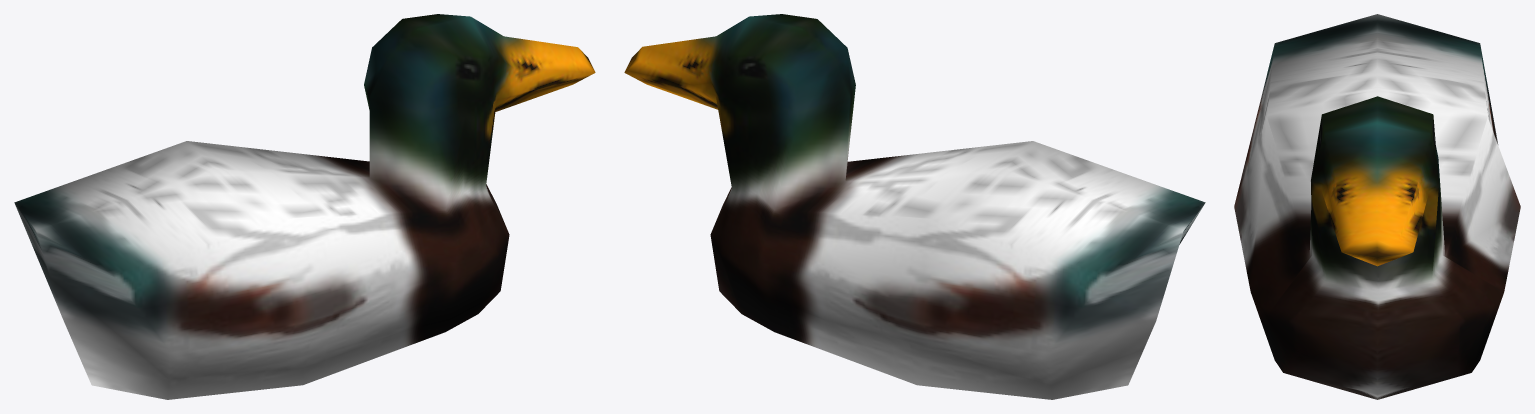
The model's file is duck.glb.
3 views of the same model, side by side, from view 1: azimuth 30°, elevation 25°; view 2: azimuth 150°, elevation 25°; view 3: azimuth 270°, elevation 25° (orthographic). The views are drawn at different scales.
Parts seen in each view (by area): view 1: duck.jpg__; view 2: duck.jpg__; view 3: duck.jpg__.
Boxes of the visible parts, x1,y1,x2,y2 form: duck.jpg__: (14,14,595,399); duck.jpg__: (624,14,1205,399); duck.jpg__: (1234,14,1520,399).
Size of the model in its own units: 16.44 by 8.47 by 7.04.
Materials: 1 (1 with a texture image).
